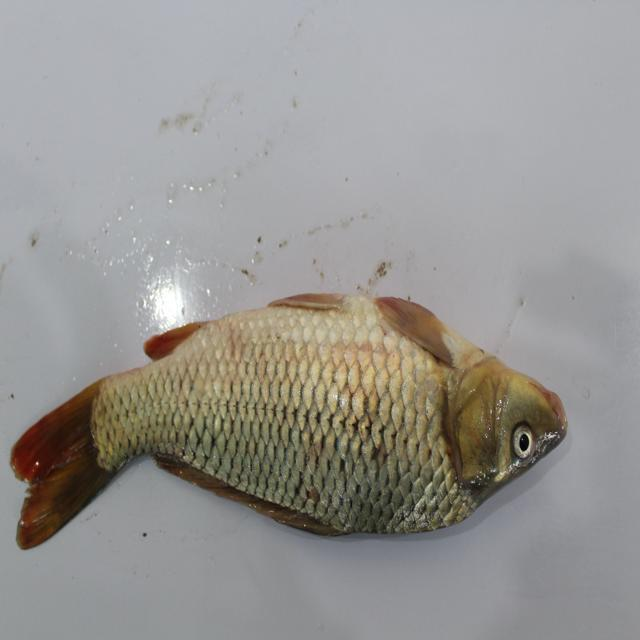Grass Carp: (16, 283, 564, 549)
